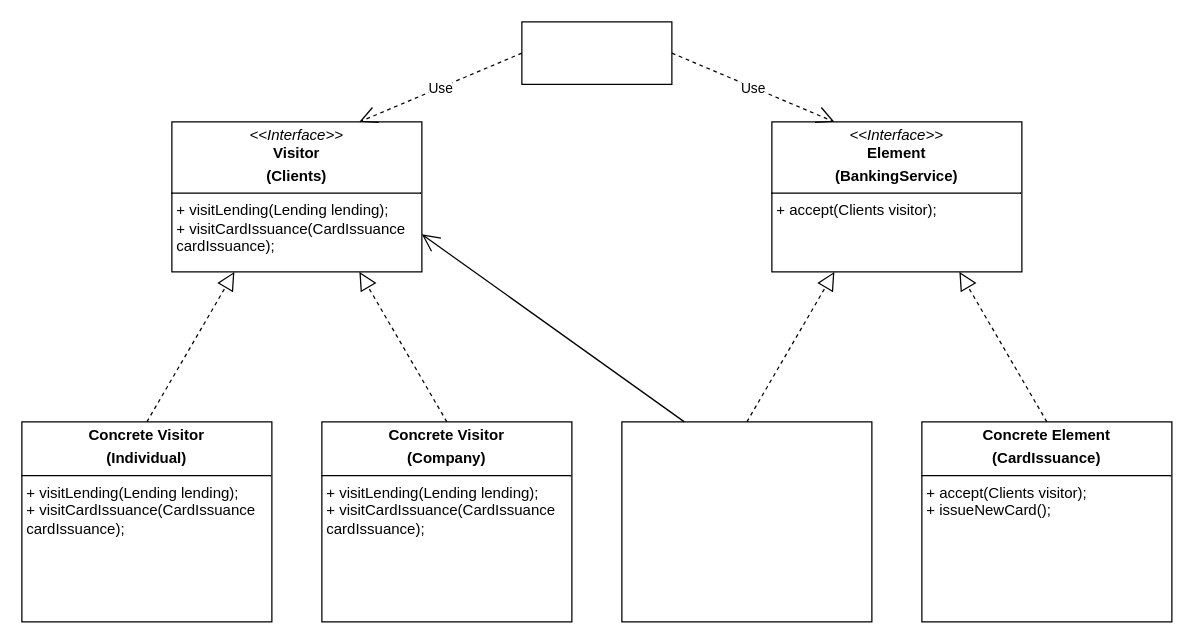
Some shapes in this 1194 by 644 pixel diagram are drawn without their labels. Each missing label, with the box of its shape:
Client: (521, 21, 672, 84)
Concrete Element (Lending) + accept(Clients visitor); + loanRequest();: (621, 421, 872, 622)
